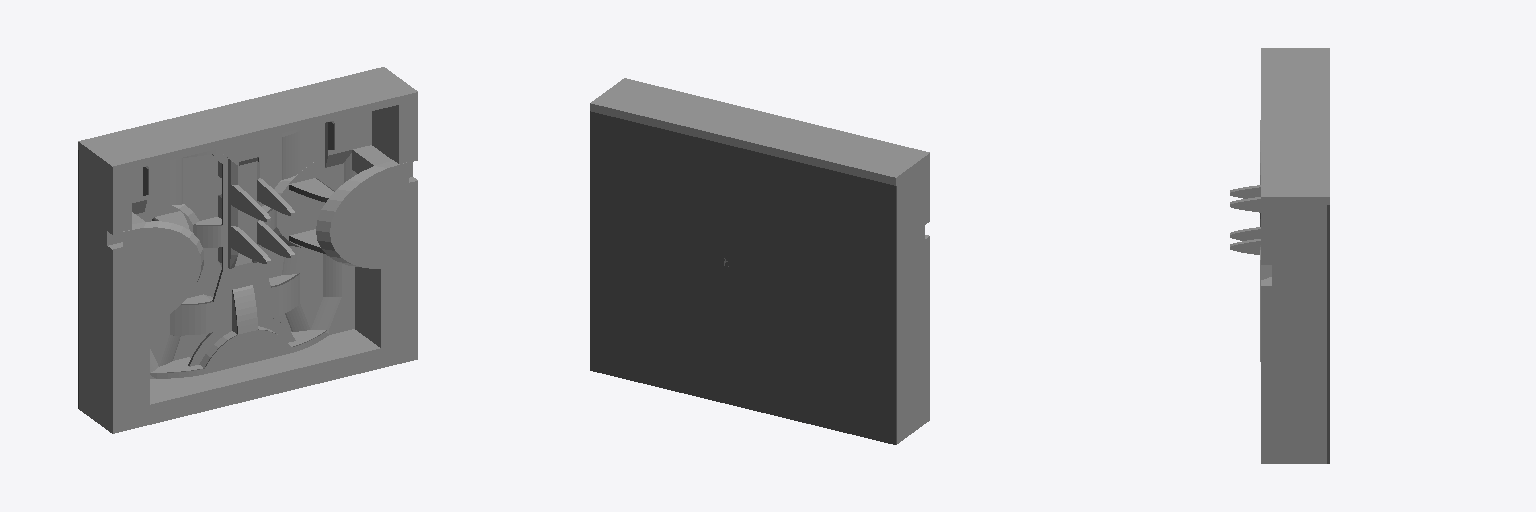
File: station.obj
3 views of the same model, side by side, from view 1: azimuth 30°, elevation 25°; view 2: azimuth 150°, elevation 25°; view 3: azimuth 270°, elevation 25° (orthographic).
Visible parts, largest first — view 1: Cube.000; view 2: Cube.000; view 3: Cube.000.
Boxes of the visible parts, x1=… form: Cube.000: x1=78, y1=67, x2=417, y2=433; Cube.000: x1=590, y1=78, x2=929, y2=444; Cube.000: x1=1230, y1=48, x2=1329, y2=463.
Size of the model in its own units: 31.78 by 26.55 by 8.98.